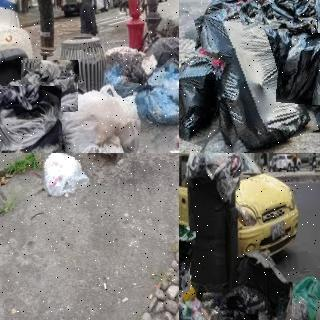Garbage: (202, 0, 309, 150), (179, 44, 226, 142), (0, 85, 62, 153), (20, 59, 79, 112), (277, 32, 320, 104), (37, 153, 94, 201), (206, 283, 272, 320), (129, 85, 179, 125), (257, 0, 316, 29), (0, 126, 52, 153), (292, 274, 320, 320), (179, 224, 193, 294)
